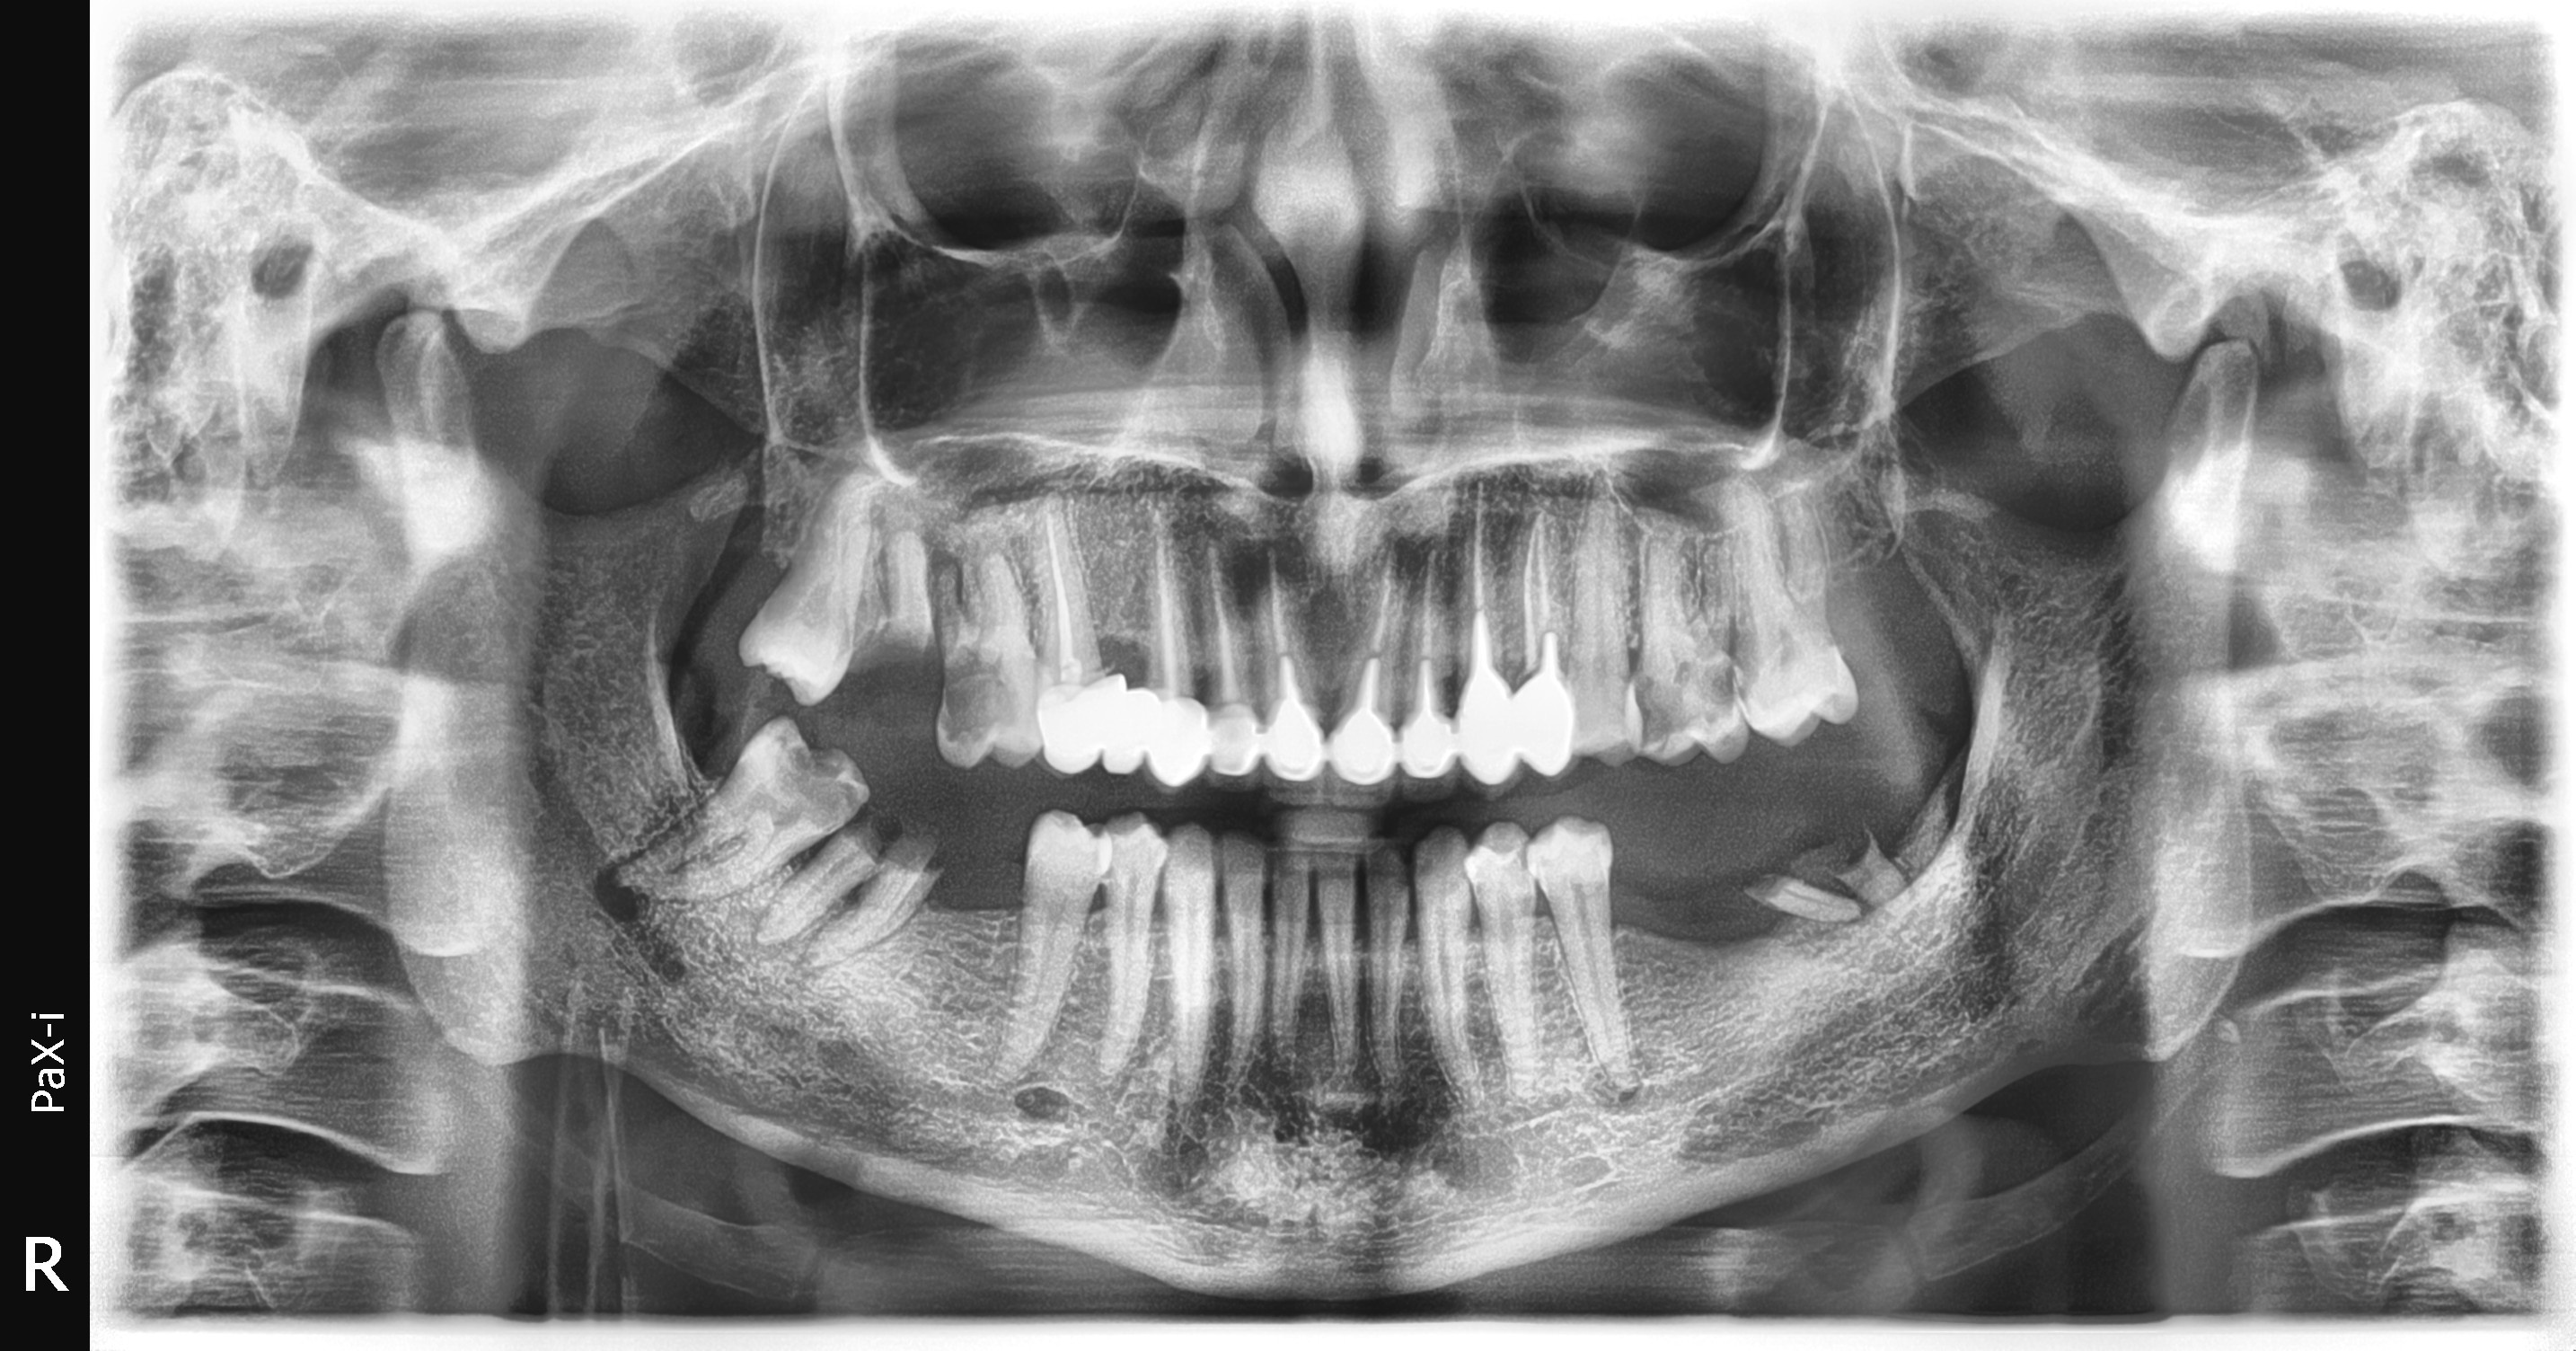API: (591, 852, 649, 925)
CAR: (942, 644, 1019, 753)
END: (1046, 513, 1080, 683)
PRR: (1034, 610, 1583, 809)
ROT: (888, 530, 937, 658)
